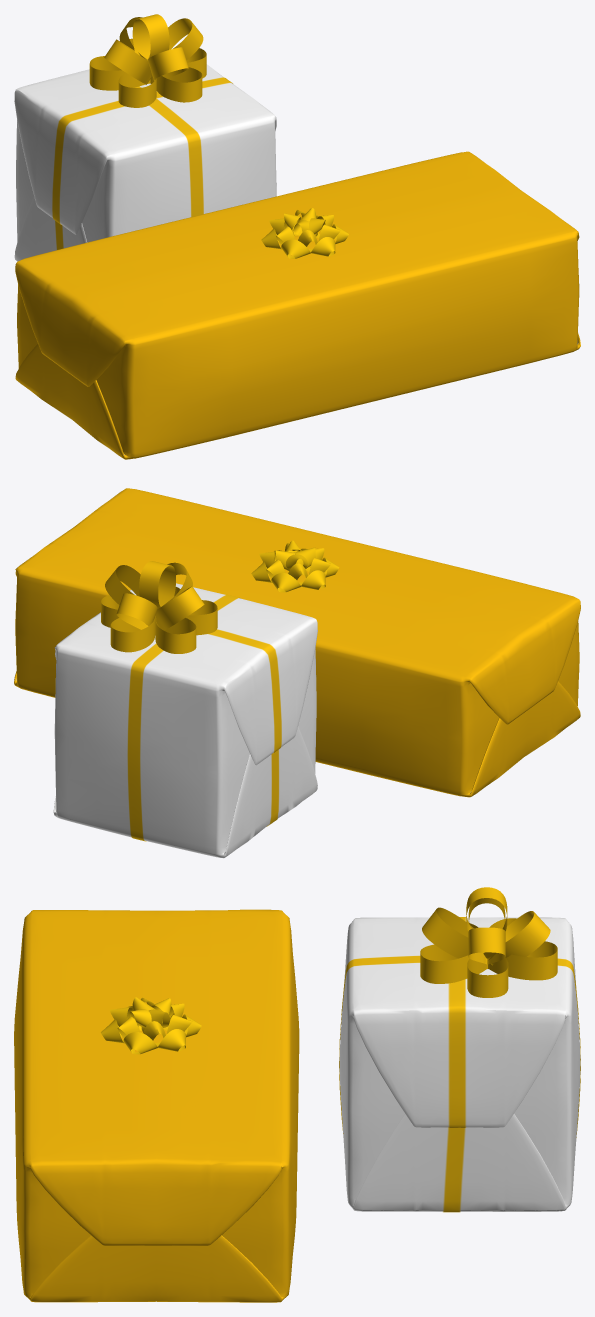
The model's file is adorno3.glb.
The picture shows the model from 3 angles, top to bottom: view 1: azimuth 30°, elevation 25°; view 2: azimuth 150°, elevation 25°; view 3: azimuth 270°, elevation 25°; orthographic projection. The views are drawn at different scales.
Parts seen in each view (by area): view 1: Present 02 Ribbon.Shape, Present01.Shape, Bow03.Shape, Present 01 Ribbon.Shape, bow01.Shape; view 2: Present 02 Ribbon.Shape, Present01.Shape, Bow03.Shape, Present 01 Ribbon.Shape, bow01.Shape; view 3: Present 02 Ribbon.Shape, Present01.Shape, Bow03.Shape, Present 01 Ribbon.Shape, bow01.Shape.
Part boxes in pixels (x1,y1,x2,y2): Present 02 Ribbon.Shape: [15, 151, 580, 459]; Present01.Shape: [14, 64, 276, 261]; Bow03.Shape: [89, 14, 206, 107]; Present 01 Ribbon.Shape: [52, 77, 232, 249]; bow01.Shape: [261, 208, 348, 258]; Present 02 Ribbon.Shape: [14, 488, 580, 797]; Present01.Shape: [53, 583, 317, 858]; Bow03.Shape: [101, 561, 217, 653]; Present 01 Ribbon.Shape: [127, 594, 281, 841]; bow01.Shape: [251, 540, 339, 592]; Present 02 Ribbon.Shape: [14, 909, 299, 1302]; Present01.Shape: [339, 917, 580, 1211]; Bow03.Shape: [420, 887, 557, 997]; Present 01 Ribbon.Shape: [339, 917, 580, 1212]; bow01.Shape: [101, 997, 201, 1054].
Bounding box in the file's own units: 1.11 × 0.5668 × 1.01.
6 materials, 2 textured.
